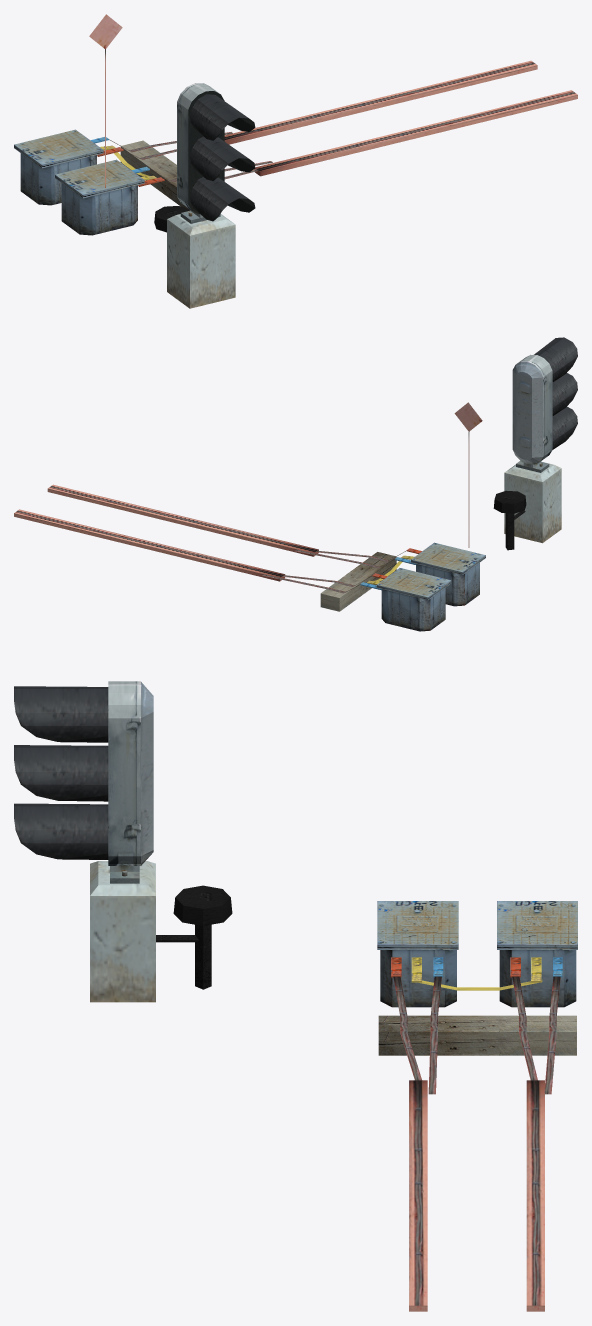
File: sig_k3.gltf
3 views of the same model, one above another, from view 1: azimuth 30°, elevation 25°; view 2: azimuth 150°, elevation 25°; view 3: azimuth 270°, elevation 25° (orthographic). The views are drawn at different scales.
Bounding box in the file's own units: 4.01 × 1.66 × 2.66.
1 material, 1 textured.
